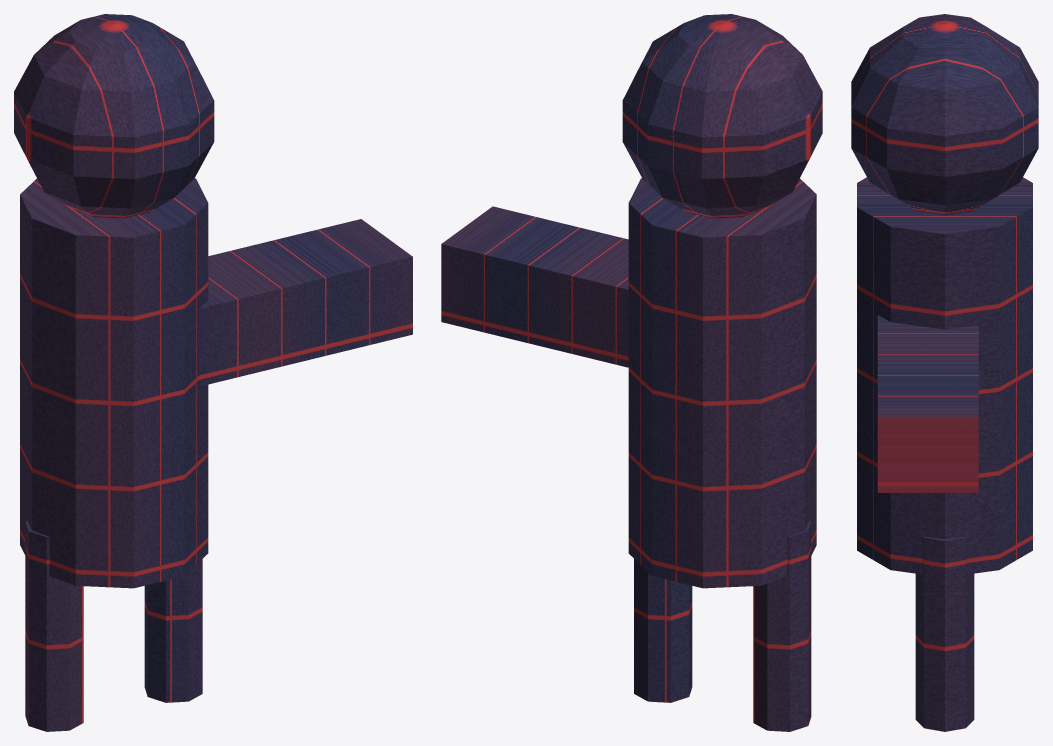
The model's file is musico.obj.
3 renders of one model, left to right at view 1: azimuth 30°, elevation 25°; view 2: azimuth 150°, elevation 25°; view 3: azimuth 270°, elevation 25°, orthographic. The views are drawn at different scales.
Visible parts, largest first — view 1: musico; view 2: musico; view 3: musico.
Boxes of the visible parts, x1,y1,x2,y2 form: musico: (14, 14, 412, 731); musico: (441, 14, 822, 731); musico: (851, 14, 1038, 731).
Size of the model in its own units: 0.472 by 0.875 by 0.2225.
1 material, 1 textured.
